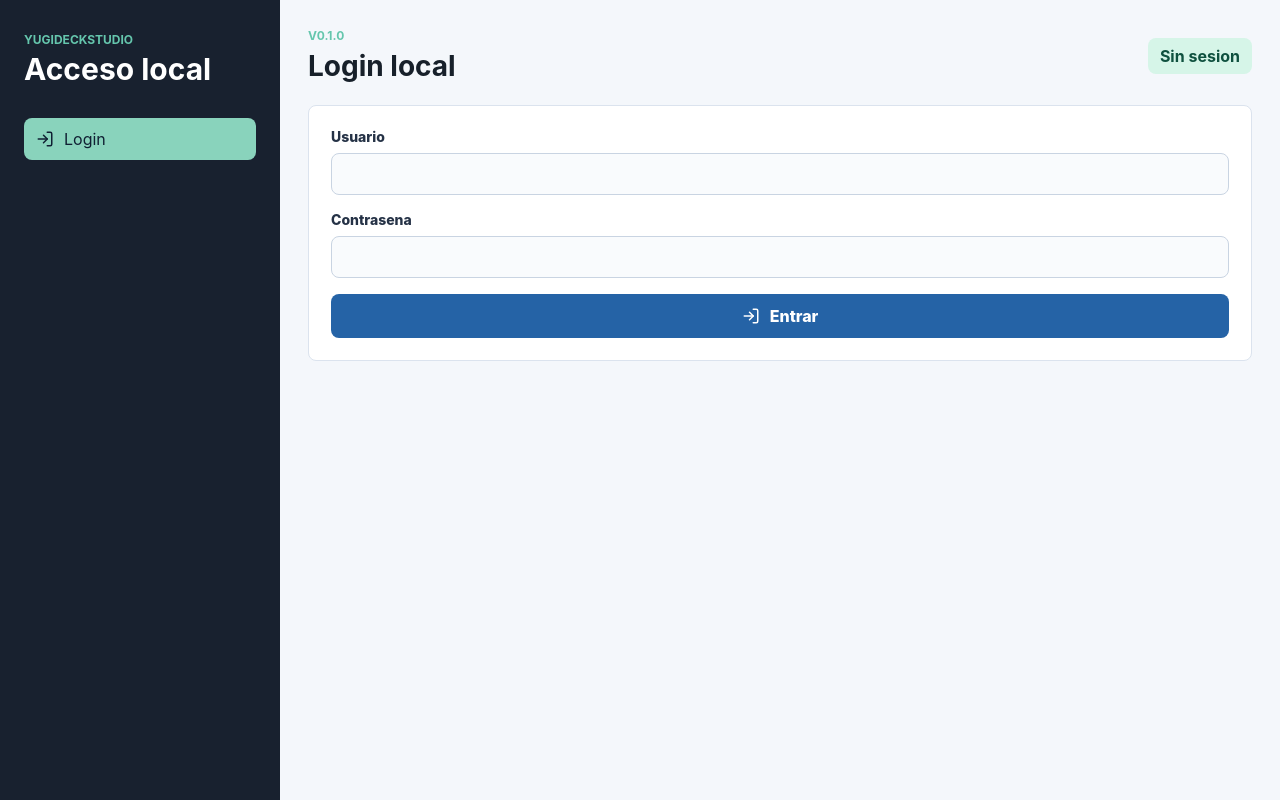
Test case: App › forces password change when login returns mustChangePassword
This screenshot has width=1280, height=800.
In the field labelled "Usuario": x=780, y=174 331,153 -> 1229,195, type "root"
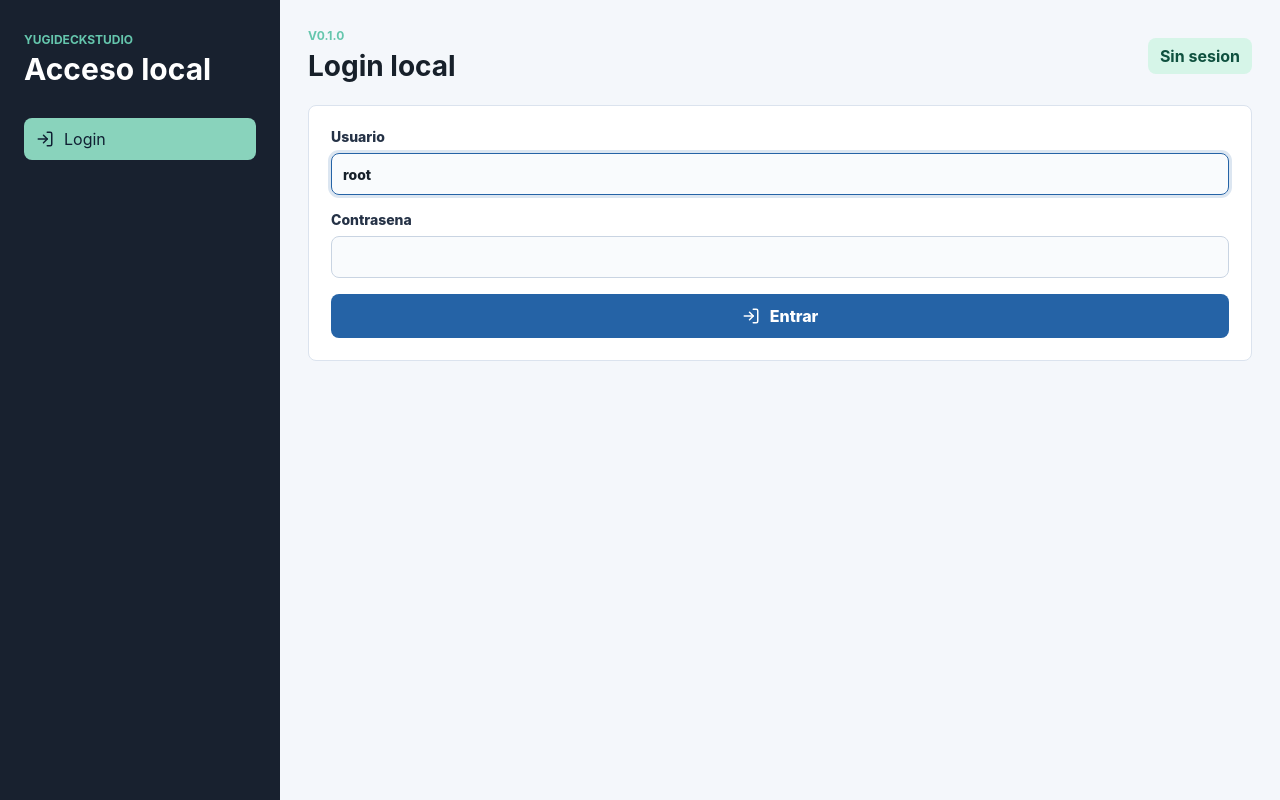
In the password field labelled "Contrasena": x=780, y=257 331,236 -> 1229,278, type "ChangeMe123!"
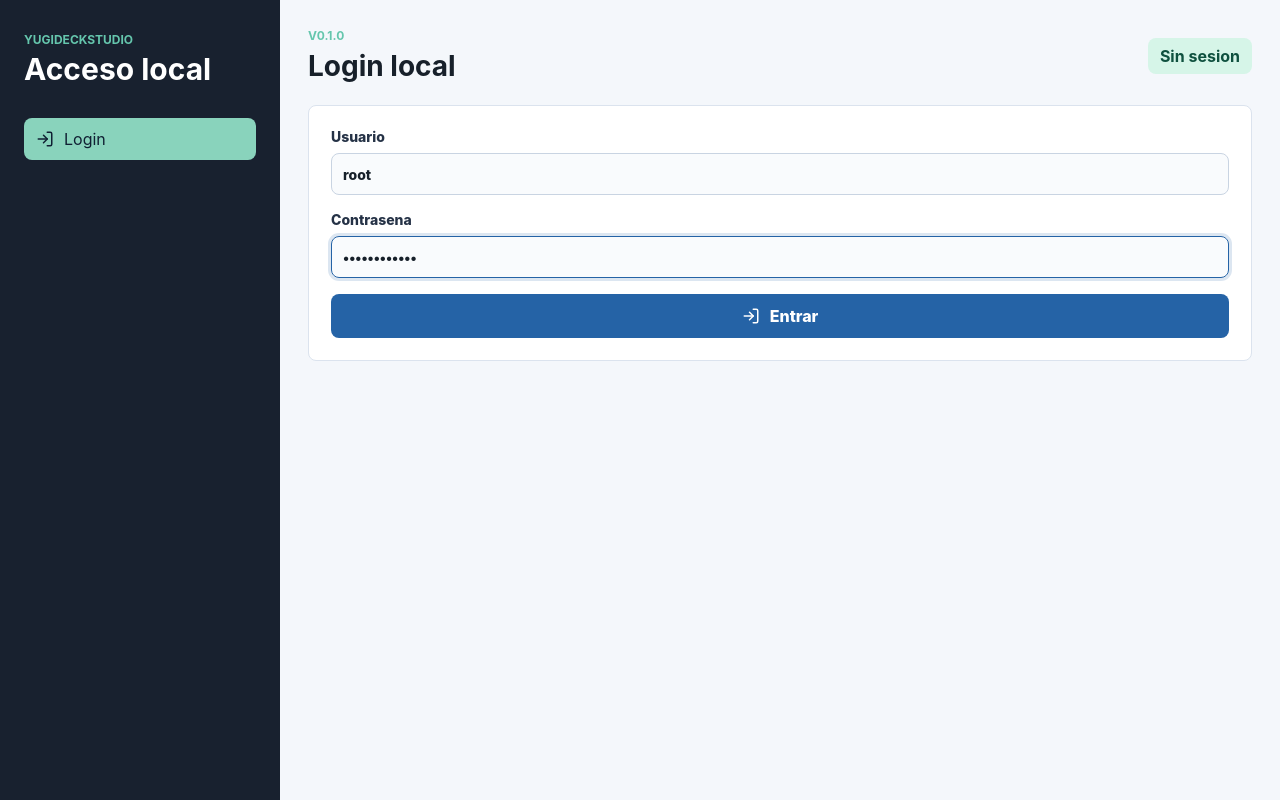
Click the button "Entrar": x=780, y=316 331,294 -> 1229,338
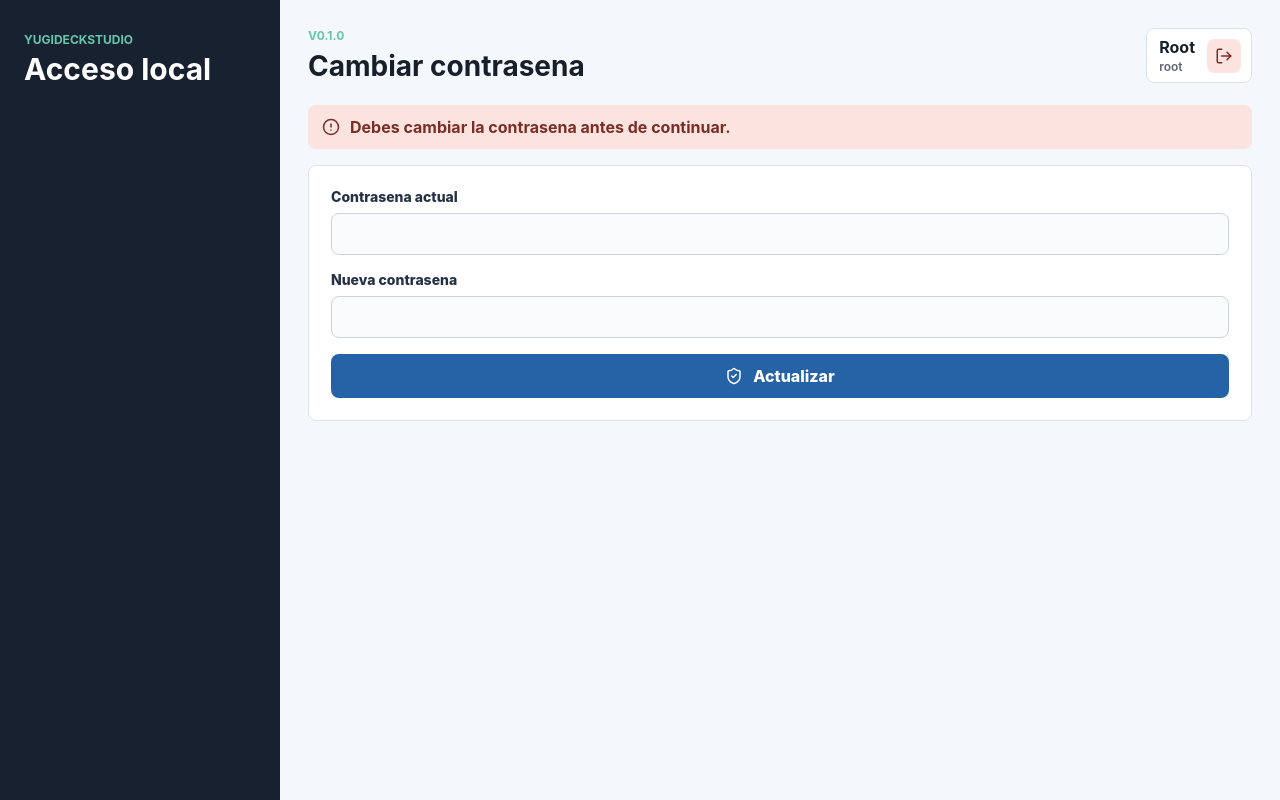
Expected: the button "registro" is not shown
Expected: the heading "Cambiar contrasena" is shown, 308,49 -> 585,83
Expected: the text "Debes cambiar la contrasena antes de continuar." is shown, 350,117 -> 731,137
In the password field labelled "Contrasena actual": x=780, y=234 331,213 -> 1229,255, type "ChangeMe123!"
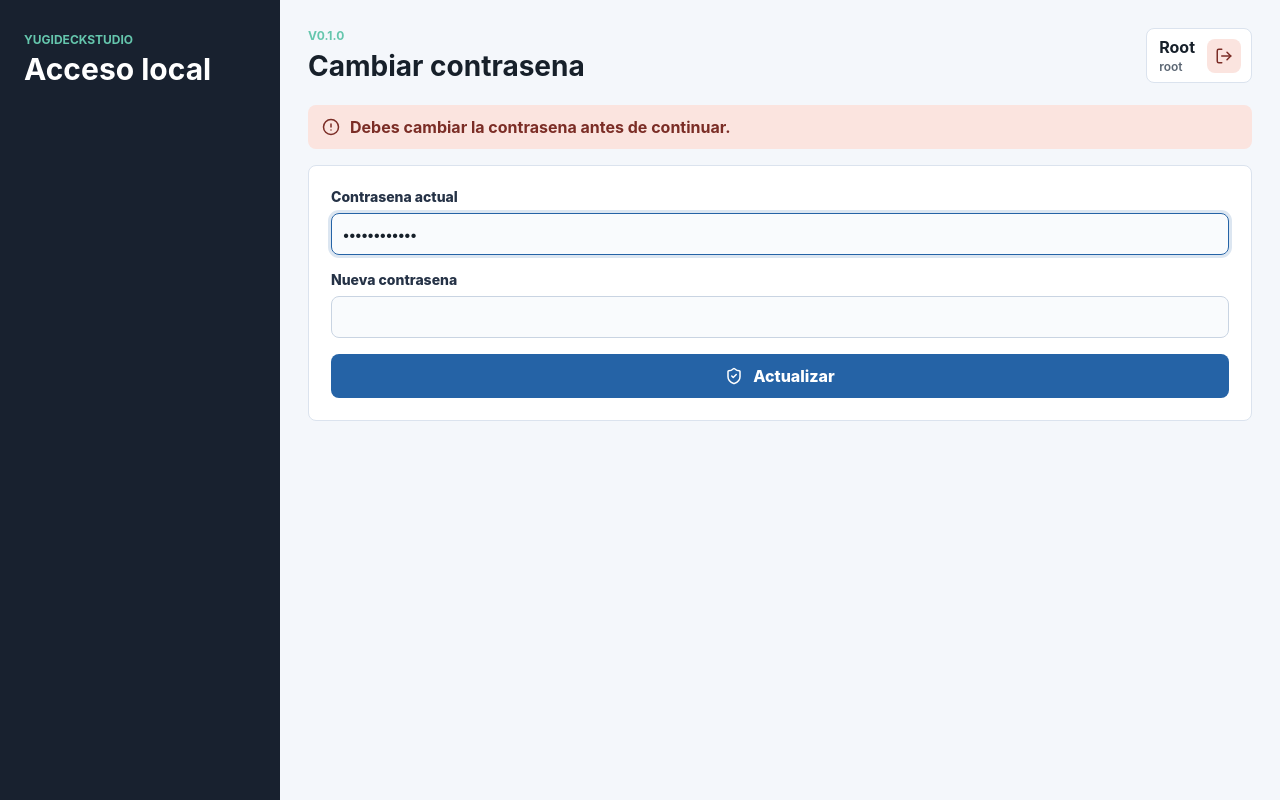
In the password field labelled "Nueva contrasena": x=780, y=317 331,296 -> 1229,338, type "NewPassword123!"
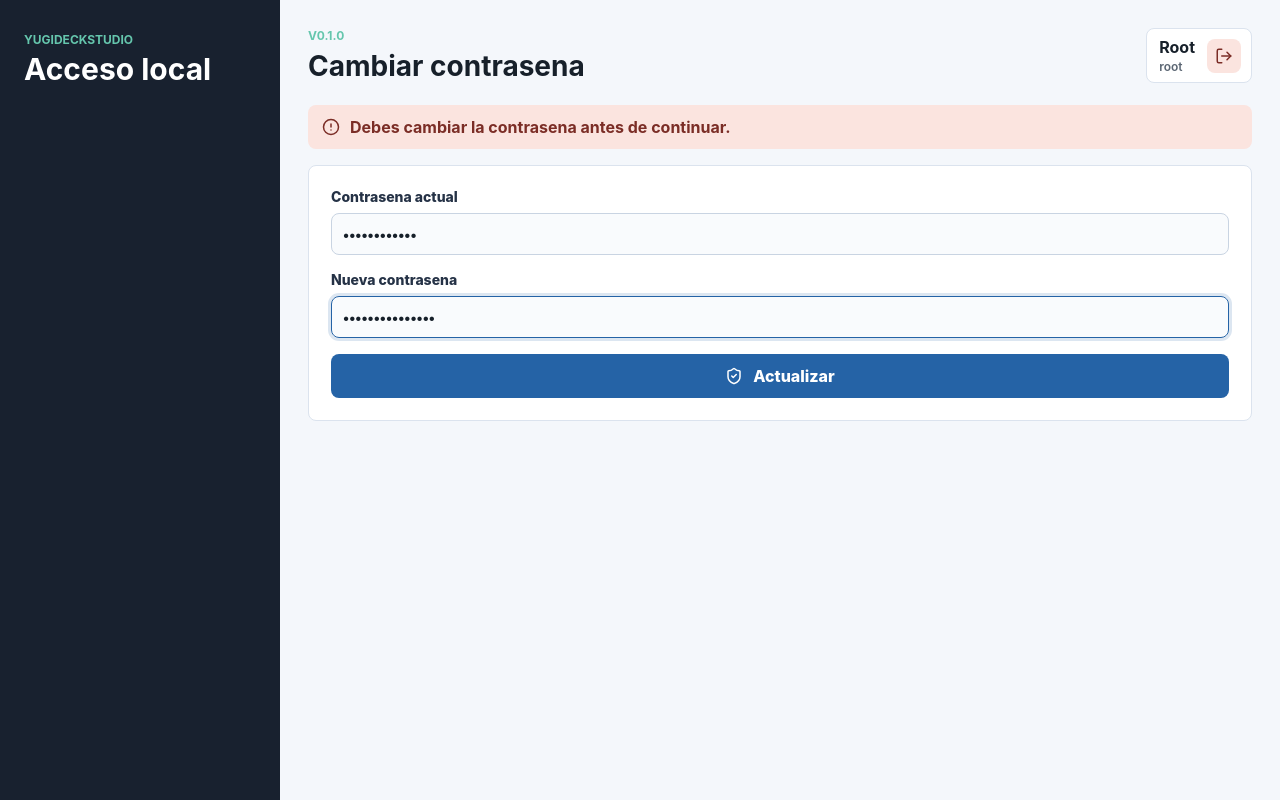
Click the button "Actualizar": x=780, y=376 331,354 -> 1229,398
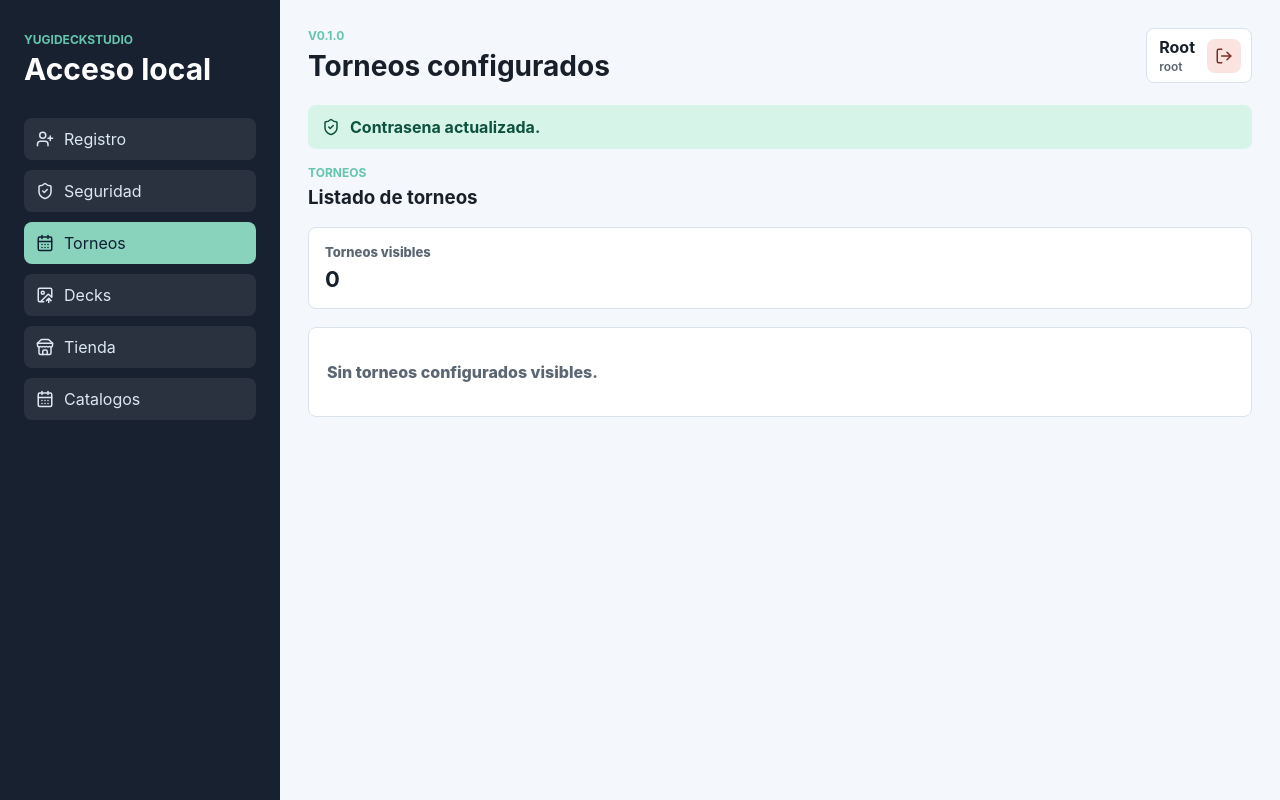
Expected: the text "Contrasena actualizada." is shown, 350,117 -> 540,137
